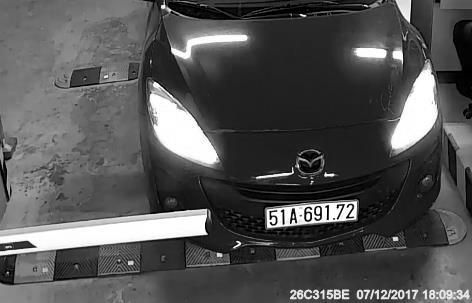License-plate: (258, 200, 359, 240)
